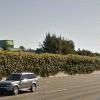Tree: (35, 25, 98, 61)
